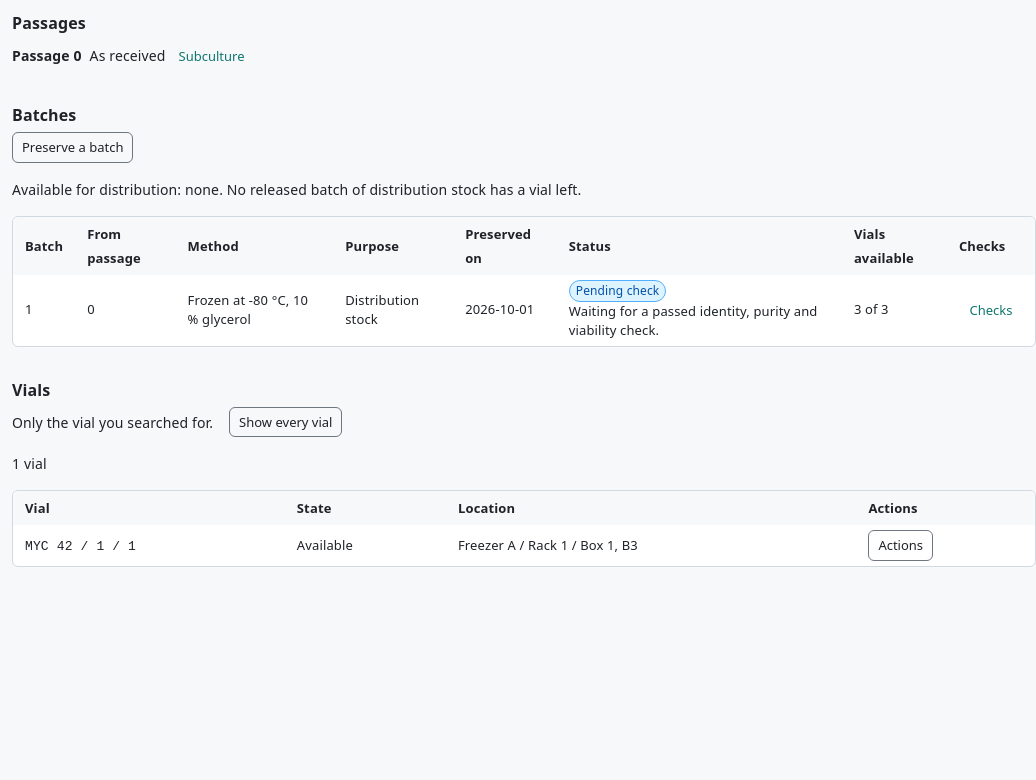
Test: StrainMaterial › shows only the vial a search opened, until Show every vial, which leaves the focus on the Vials heading (#76)
This screenshot has width=1036, height=780.
Check: the text "Only the vial you searched for." is shown, box x1=12 y1=412 x2=213 y2=433
Click the button "Show every vial": (286, 422) x1=229 y1=407 x2=342 y2=438
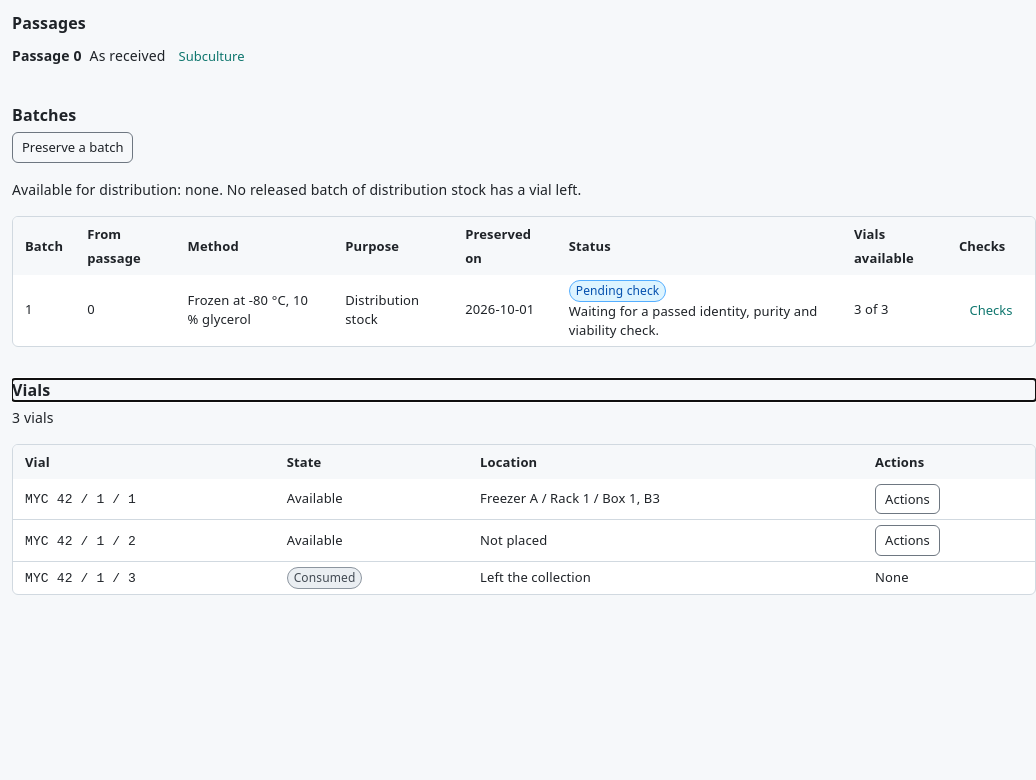
Check: the text "3 vials" is shown, box x1=12 y1=408 x2=54 y2=427
Check: the text "Only the vial you searched for." is gone
